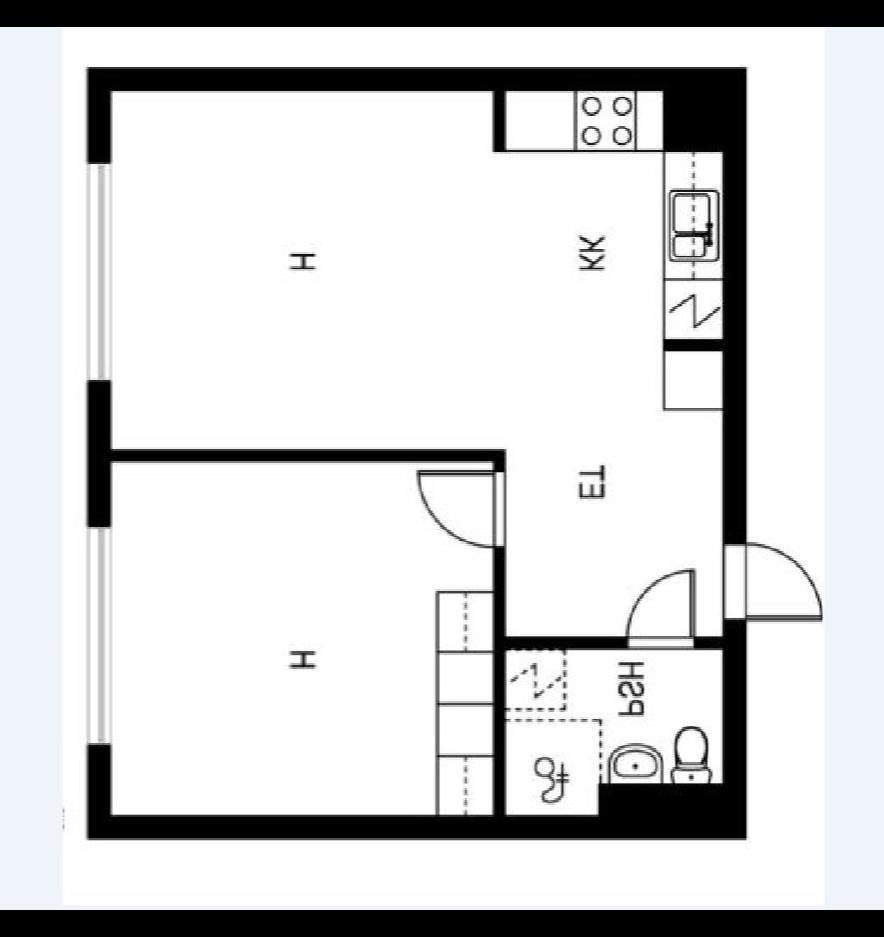bathroom: (502, 648, 718, 784)
door: (715, 536, 823, 630), (410, 466, 505, 548), (618, 560, 696, 654)
perimeter: (82, 65, 750, 836)
window: (79, 139, 117, 392), (78, 514, 114, 754)
